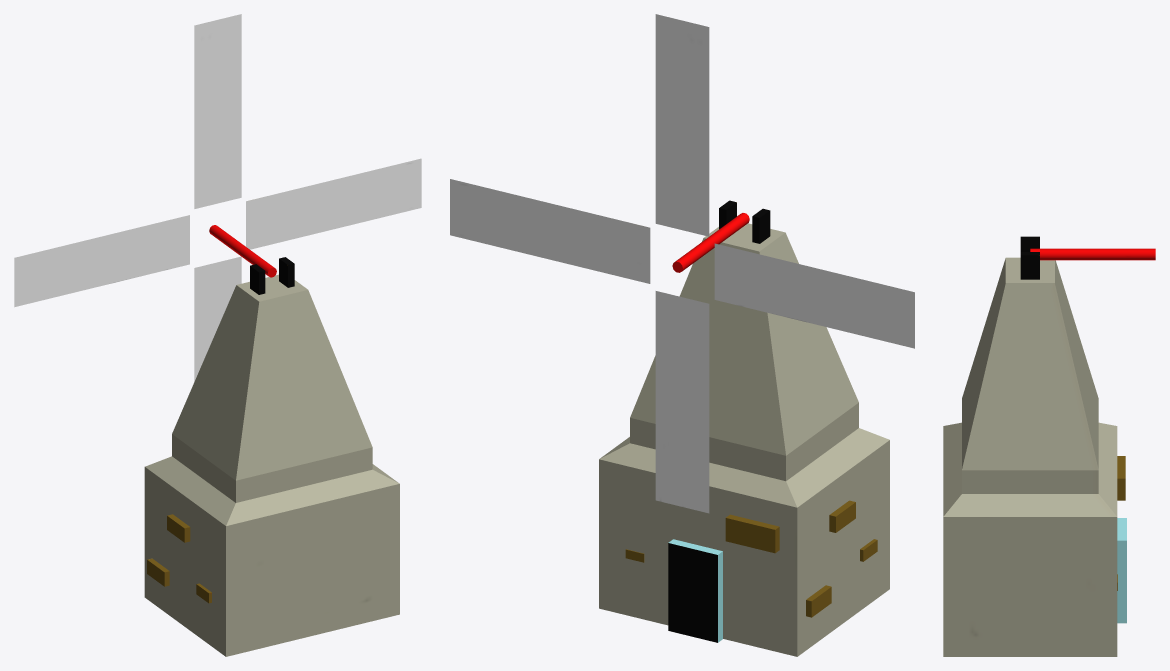
File: windmill.FBX
3 views of the same model, side by side, from view 1: azimuth 30°, elevation 25°; view 2: azimuth 150°, elevation 25°; view 3: azimuth 270°, elevation 25° (orthographic). The views are drawn at different scales.
Visible parts, largest first — view 1: Box001, Plane002, Plane005, Plane004, Plane003, Cylinder001; view 2: Box001, Plane002, Plane003, Plane005, Plane004, Box009, Box002, Cylinder001; view 3: Box001, Cylinder001, Box009, Box008, Box002.
Boxes of the visible parts, left/top/right/bottom form: Box001: left=144, top=274, right=399, bottom=656; Plane002: left=194, top=14, right=241, bottom=208; Plane005: left=14, top=215, right=189, bottom=307; Plane004: left=246, top=158, right=421, bottom=249; Plane003: left=194, top=256, right=241, bottom=381; Cylinder001: left=209, top=225, right=276, bottom=277; Box001: left=599, top=223, right=889, bottom=656; Plane002: left=655, top=14, right=709, bottom=236; Plane003: left=655, top=291, right=709, bottom=513; Plane005: left=714, top=243, right=914, bottom=348; Plane004: left=450, top=179, right=650, bottom=283; Box009: left=668, top=539, right=722, bottom=642; Box002: left=725, top=514, right=779, bottom=553; Cylinder001: left=672, top=213, right=749, bottom=272; Box001: left=943, top=257, right=1117, bottom=656; Cylinder001: left=1030, top=248, right=1155, bottom=260; Box009: left=1117, top=518, right=1126, bottom=623; Box008: left=1020, top=252, right=1039, bottom=279; Box002: left=1117, top=456, right=1125, bottom=500.
Size of the model in its own units: 1.41 by 1.8 by 0.5928.
